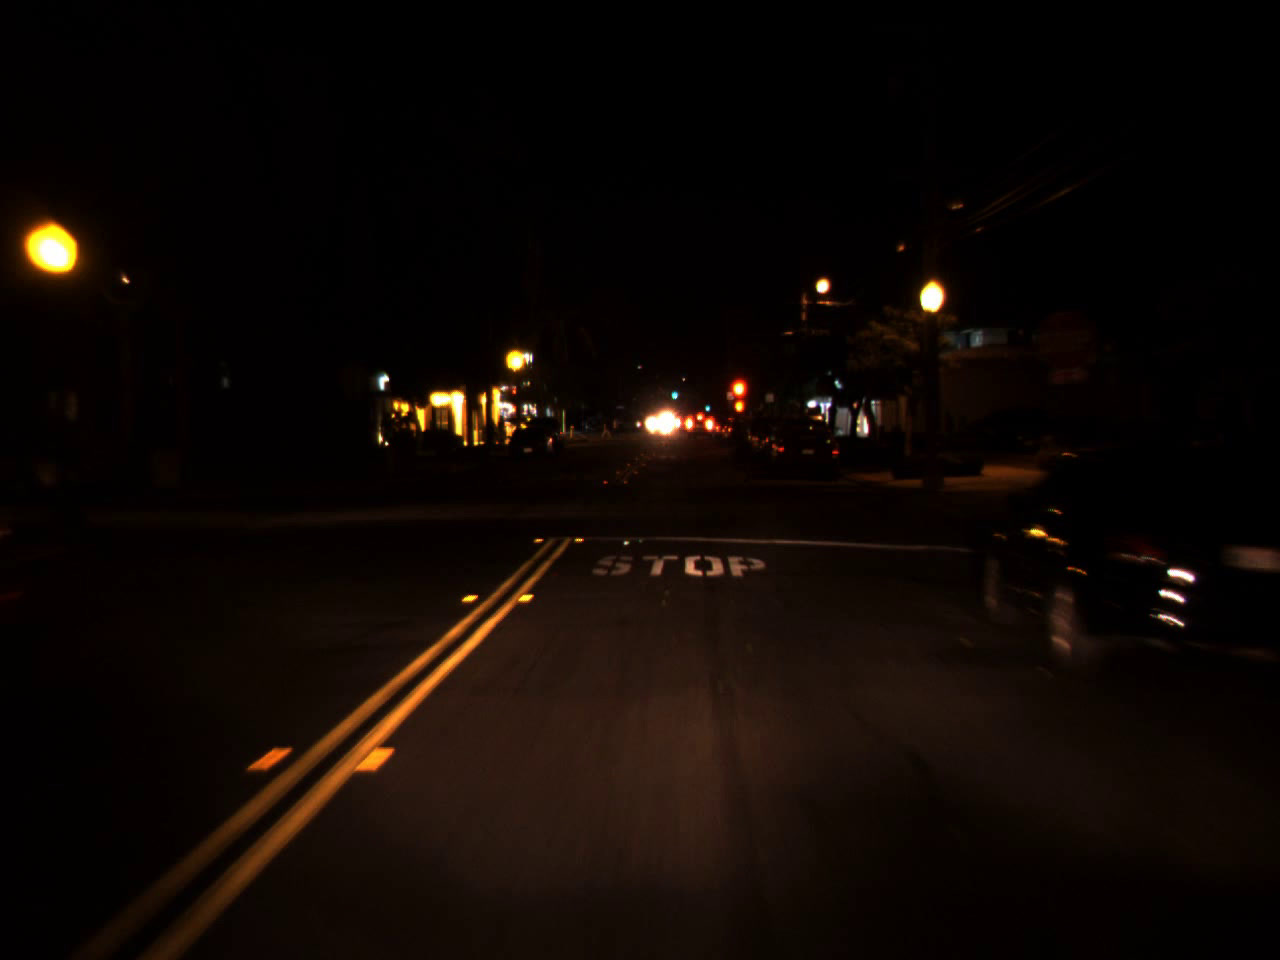go: (702, 396, 711, 414), (669, 385, 678, 400)
stop: (726, 375, 750, 423), (508, 385, 520, 406)
